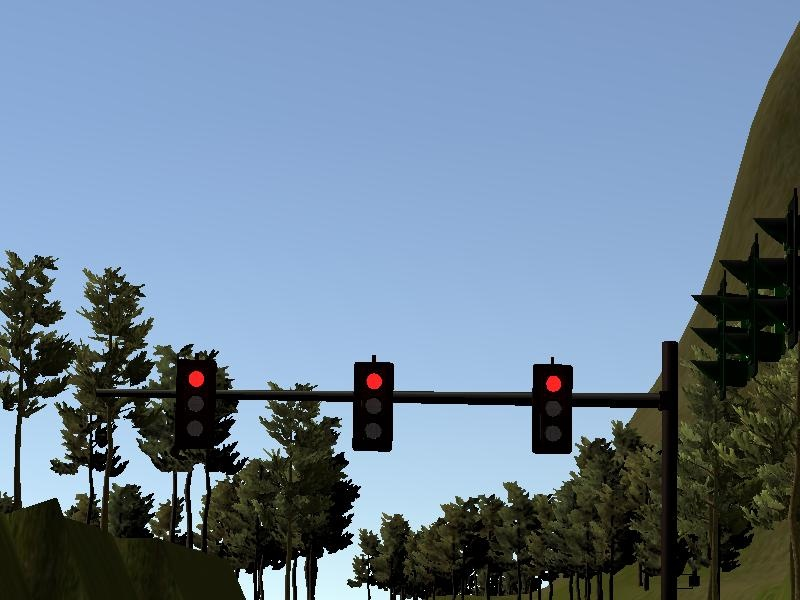red: (529, 363, 573, 458), (349, 361, 393, 456), (171, 358, 215, 453)
